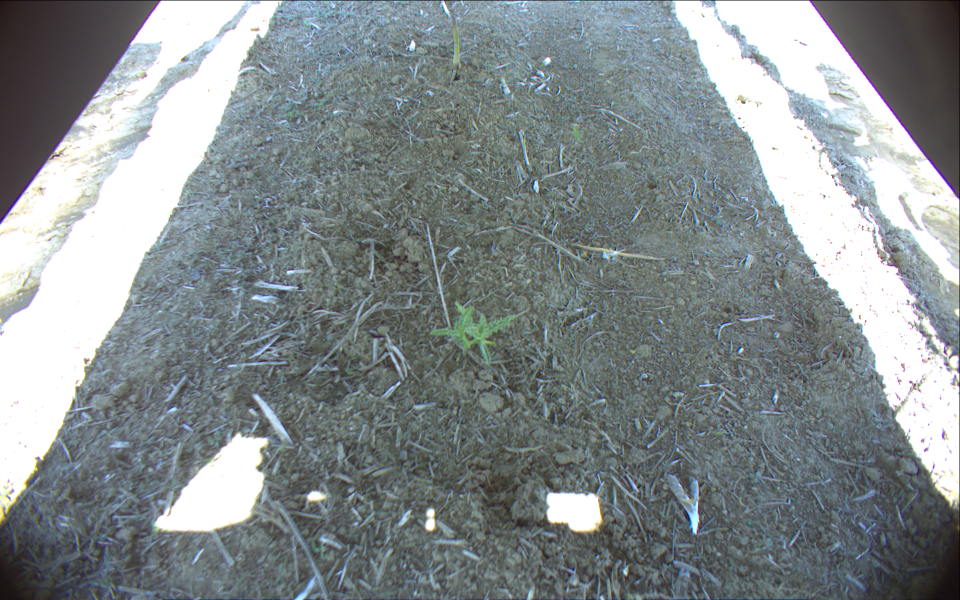aspa: (447, 8, 463, 68)
